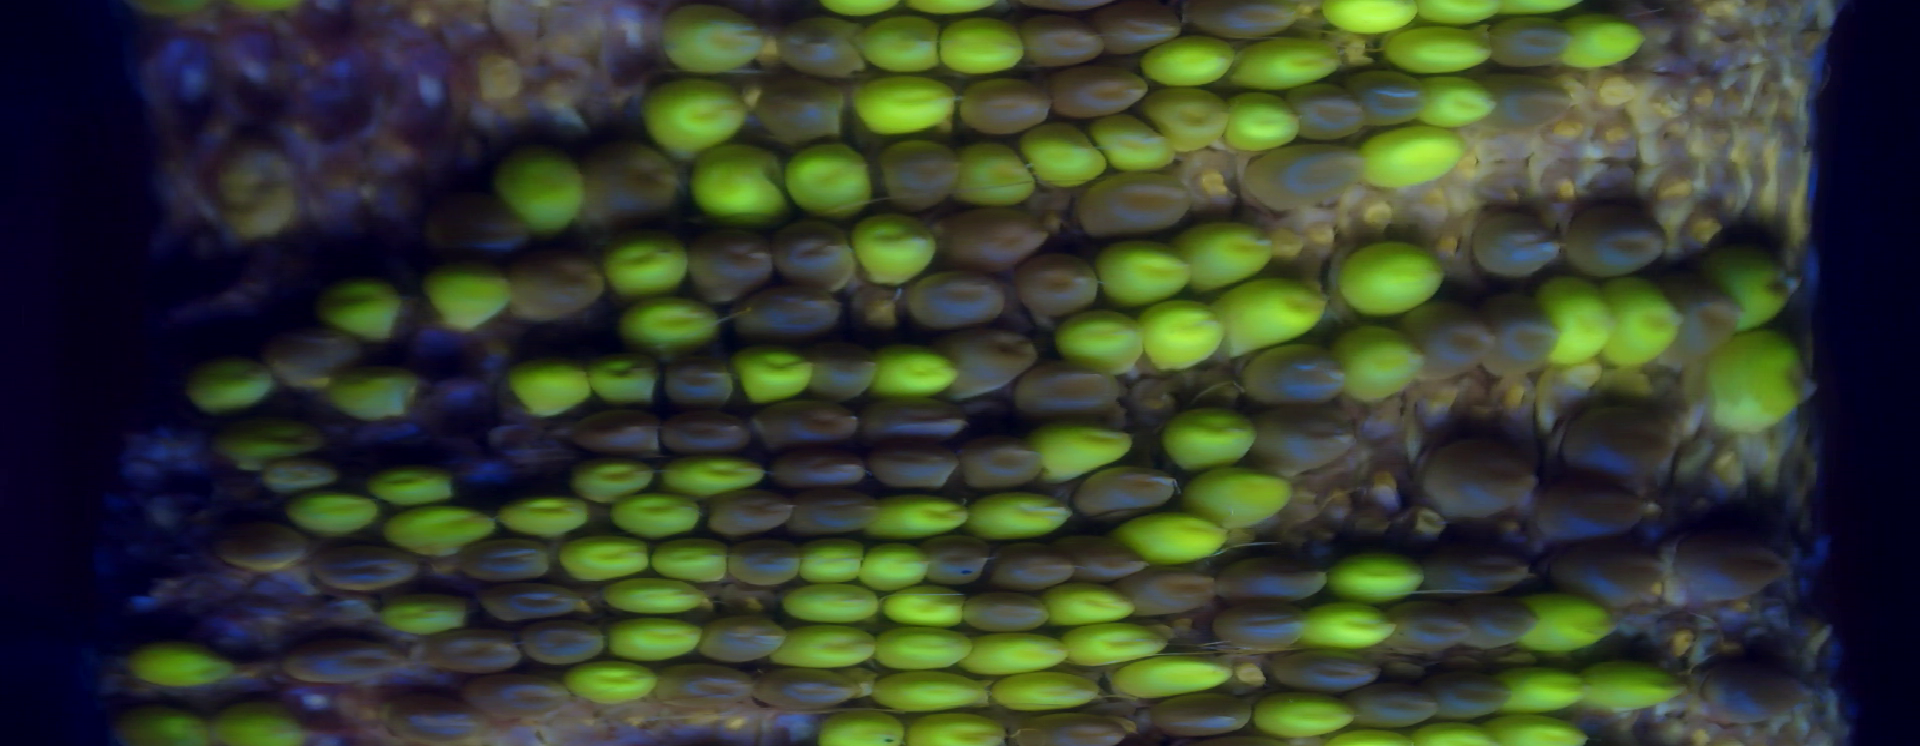fluorescent: (203, 140, 302, 250), (692, 134, 800, 220), (1342, 234, 1453, 316), (1716, 341, 1810, 423), (1160, 407, 1266, 478), (1722, 240, 1795, 339), (666, 2, 764, 75), (650, 81, 754, 147), (1139, 296, 1228, 372), (1335, 330, 1424, 402), (418, 262, 513, 330), (1608, 281, 1682, 366), (1364, 124, 1461, 189), (853, 82, 967, 137), (1053, 304, 1144, 372), (1122, 505, 1226, 563), (1210, 295, 1329, 347), (1562, 9, 1648, 78), (850, 209, 938, 276), (1089, 110, 1187, 169), (954, 136, 1041, 202), (964, 488, 1074, 539), (795, 147, 876, 217), (1189, 227, 1270, 296), (376, 501, 493, 549), (1190, 472, 1292, 527), (179, 356, 271, 416), (1102, 239, 1190, 301), (939, 18, 1021, 85), (876, 488, 976, 540), (1144, 29, 1231, 89), (1521, 595, 1616, 649), (605, 234, 691, 294), (1229, 49, 1338, 96), (129, 639, 239, 685), (1113, 652, 1229, 695), (377, 584, 470, 637), (658, 452, 764, 497), (289, 484, 373, 540), (1558, 273, 1609, 365), (987, 673, 1103, 713), (1597, 661, 1680, 718), (513, 149, 577, 223), (1040, 586, 1138, 633), (1499, 665, 1589, 717), (1329, 552, 1420, 601), (780, 626, 879, 671), (874, 669, 982, 710), (620, 300, 715, 347), (958, 628, 1067, 669), (495, 488, 590, 533), (867, 23, 945, 78), (1228, 88, 1292, 156), (212, 701, 309, 745), (1026, 127, 1100, 185), (1251, 691, 1344, 736), (789, 581, 887, 624), (509, 358, 587, 412), (740, 347, 820, 398), (606, 617, 702, 660), (876, 627, 967, 671), (568, 658, 653, 706), (360, 461, 451, 505), (334, 278, 399, 339), (613, 488, 699, 533), (1041, 426, 1124, 473), (331, 369, 411, 416), (883, 339, 951, 394), (873, 579, 964, 621), (111, 706, 204, 746), (1160, 92, 1218, 156), (1389, 39, 1487, 76), (218, 429, 322, 463), (1071, 627, 1157, 669), (587, 360, 658, 410), (800, 540, 879, 584), (825, 706, 910, 746), (576, 456, 654, 499), (1311, 1, 1412, 34), (605, 576, 708, 608), (867, 541, 934, 588), (1305, 608, 1392, 643), (1425, 78, 1495, 121), (563, 537, 650, 571), (654, 537, 721, 581), (1413, 1, 1506, 33), (915, 717, 1013, 745)
nonfluorescent: (1551, 402, 1689, 479), (1419, 431, 1529, 518), (1463, 202, 1570, 292), (589, 140, 689, 227), (504, 243, 602, 331), (1540, 481, 1663, 549), (1682, 530, 1805, 598), (1573, 202, 1667, 284), (1709, 655, 1809, 730), (1251, 143, 1363, 208), (774, 4, 866, 81), (1224, 543, 1333, 608), (1413, 298, 1489, 390), (944, 209, 1058, 269), (909, 268, 1018, 330), (1076, 176, 1187, 236), (1554, 555, 1670, 611), (955, 75, 1057, 138), (1074, 469, 1189, 523), (741, 276, 847, 333), (1673, 268, 1729, 375), (284, 635, 409, 682), (860, 392, 977, 442), (873, 138, 958, 208), (309, 534, 418, 587), (1010, 366, 1124, 416), (1490, 300, 1554, 390), (764, 72, 851, 137), (1261, 342, 1338, 413), (687, 225, 776, 285), (361, 688, 482, 733), (955, 437, 1038, 501), (1425, 669, 1516, 726), (216, 517, 306, 575), (1418, 545, 1538, 588), (267, 321, 345, 385), (1015, 18, 1109, 71), (1100, 1, 1187, 58), (803, 339, 883, 401), (945, 330, 1029, 387), (744, 401, 860, 442), (409, 631, 524, 673), (1051, 62, 1138, 118), (662, 404, 751, 458), (1018, 256, 1104, 310), (1291, 78, 1371, 136), (1068, 526, 1144, 587), (1487, 73, 1573, 126), (1005, 710, 1134, 746), (1264, 418, 1358, 465), (864, 442, 962, 488), (473, 673, 571, 718), (571, 408, 658, 458), (1179, 5, 1319, 36), (662, 669, 756, 714), (729, 530, 800, 589), (705, 605, 782, 659), (1490, 20, 1566, 73), (702, 488, 796, 530), (1270, 666, 1382, 702), (961, 588, 1047, 635), (1467, 597, 1537, 653), (662, 353, 742, 402), (467, 533, 557, 576), (1153, 692, 1255, 730), (1213, 614, 1318, 650), (782, 446, 871, 489), (760, 673, 868, 707), (790, 216, 853, 272), (1400, 601, 1464, 657), (1357, 66, 1420, 120), (803, 492, 887, 533), (487, 582, 577, 616), (1138, 568, 1209, 611), (926, 545, 992, 590), (997, 541, 1068, 582), (258, 458, 338, 494), (525, 624, 602, 657), (1368, 685, 1429, 726)
